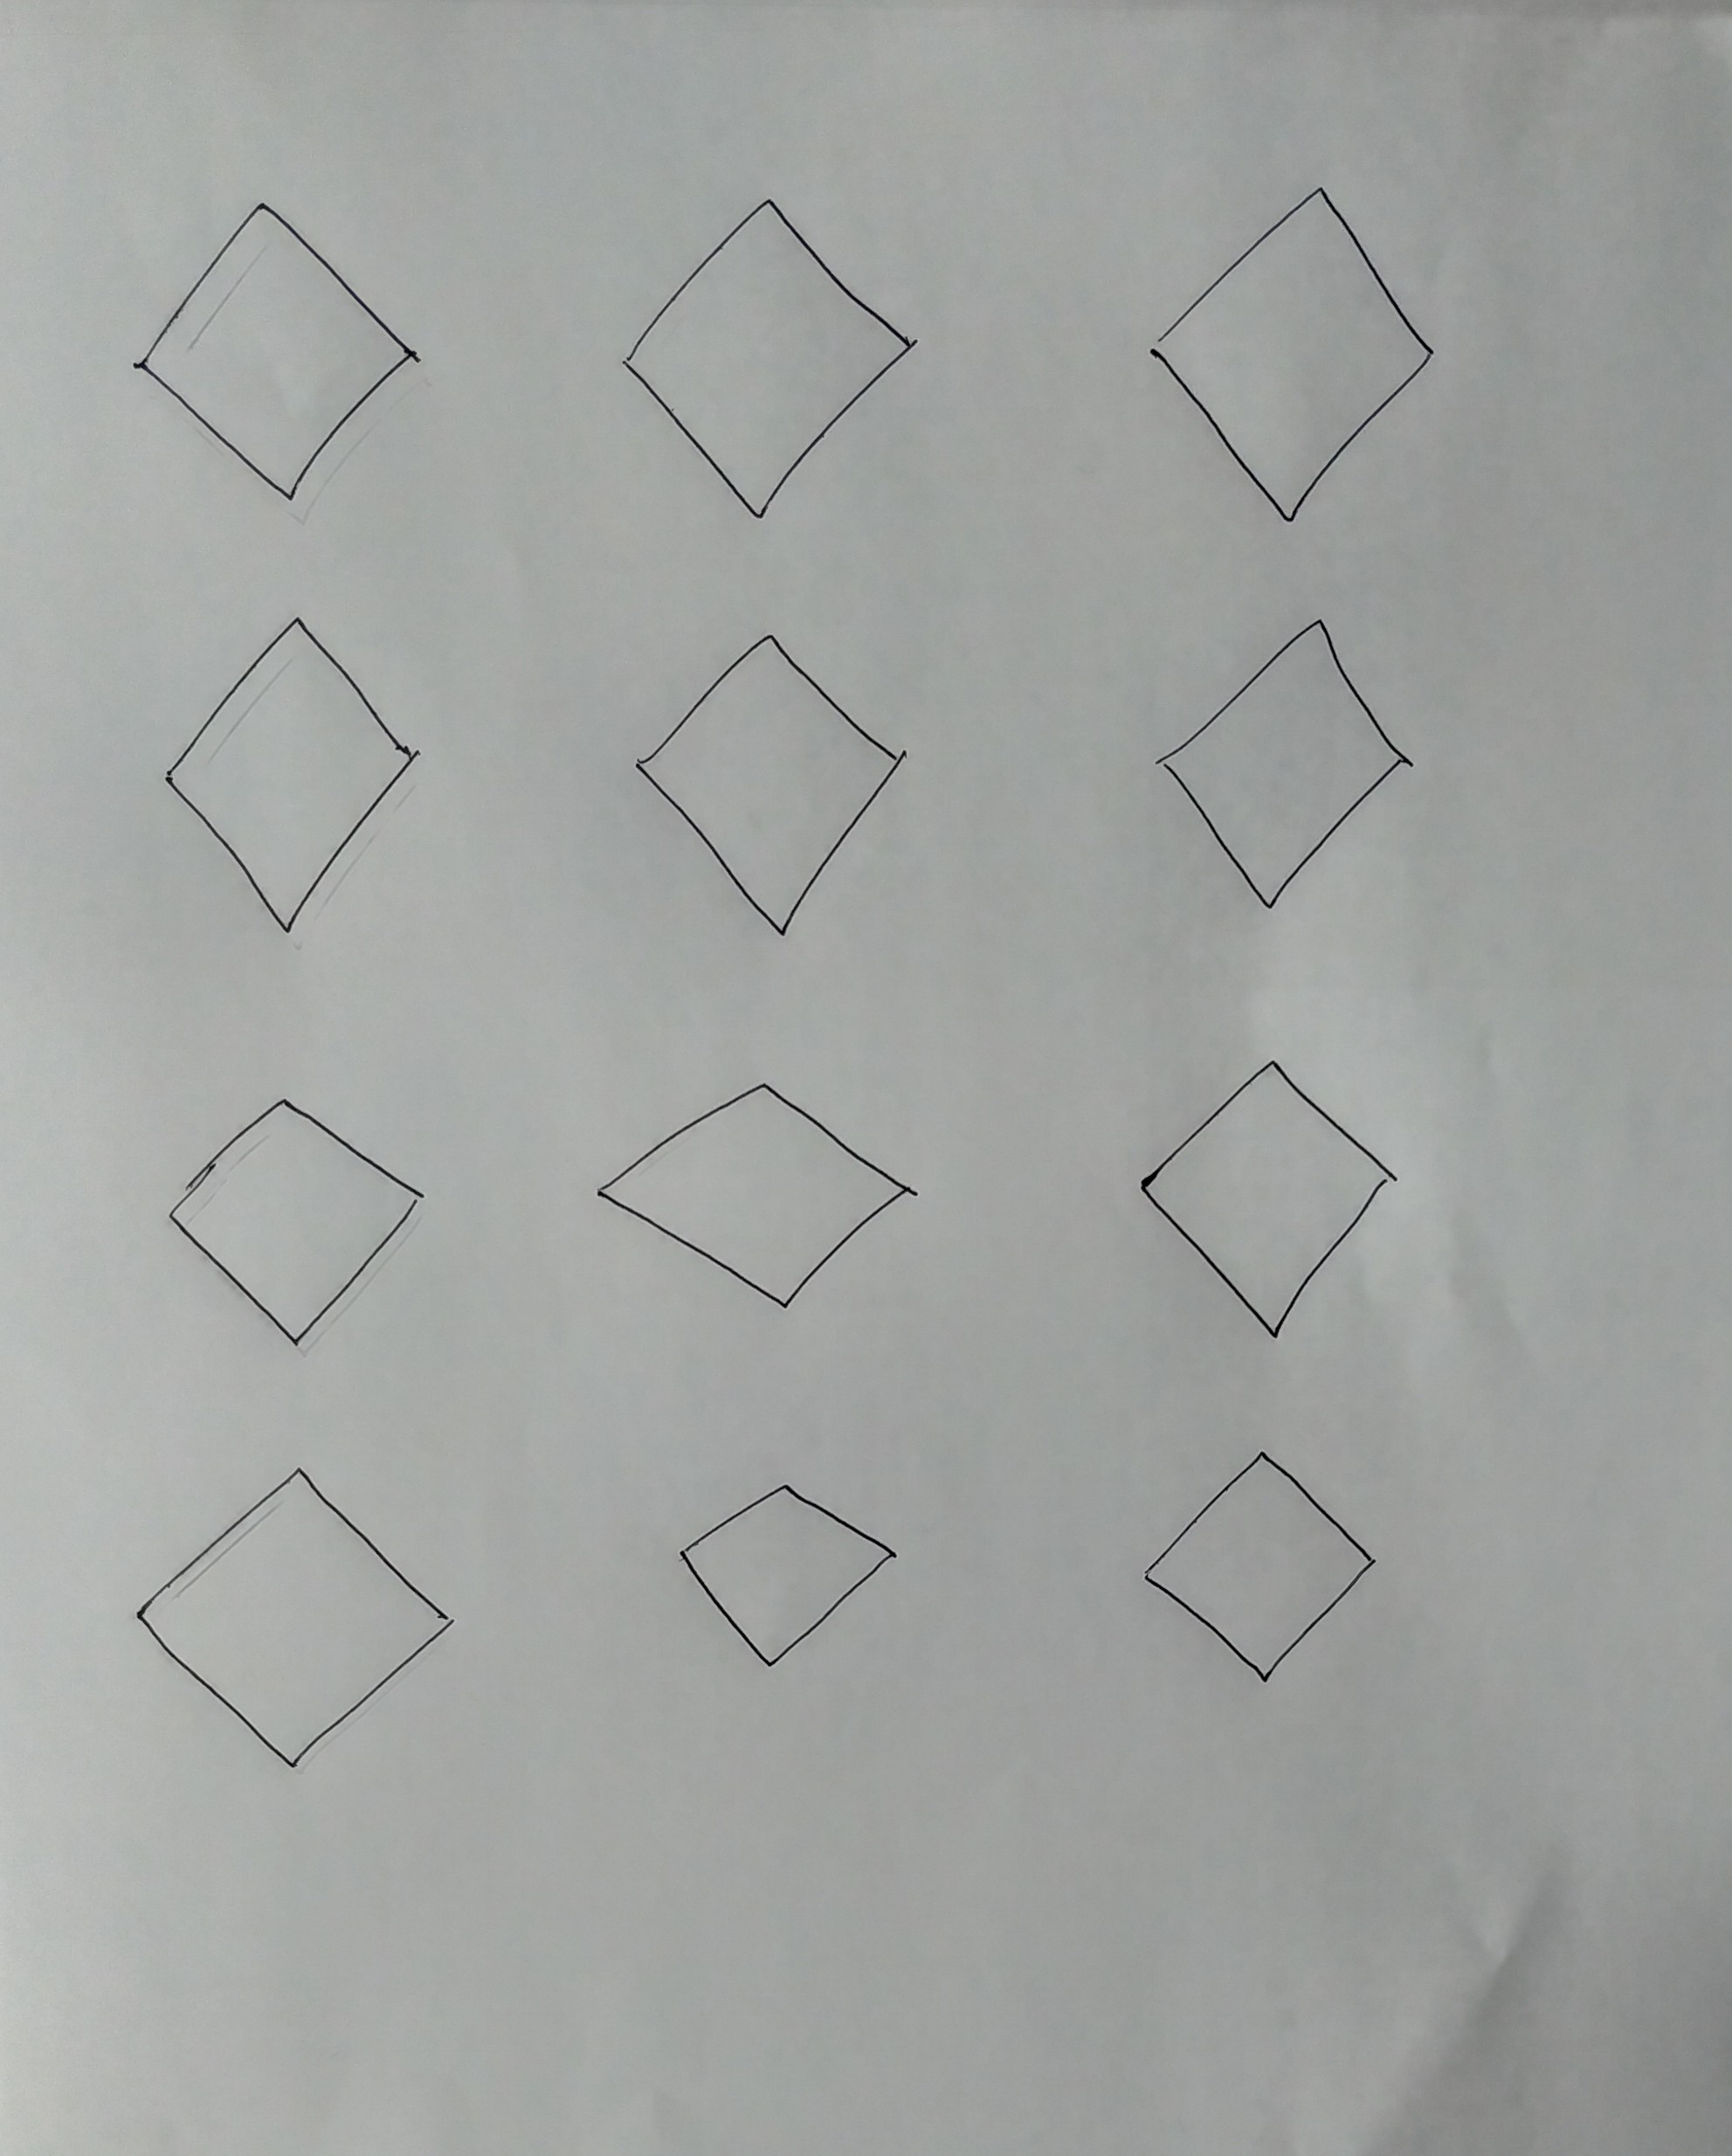decision: (1143, 178, 1442, 541), (131, 1460, 458, 1773), (622, 194, 924, 525), (125, 198, 431, 511), (159, 610, 428, 947), (631, 626, 914, 944), (1151, 611, 1417, 924), (1131, 1053, 1403, 1347), (589, 1074, 921, 1310), (163, 1089, 428, 1355), (1140, 1446, 1379, 1691), (677, 1477, 898, 1674)
